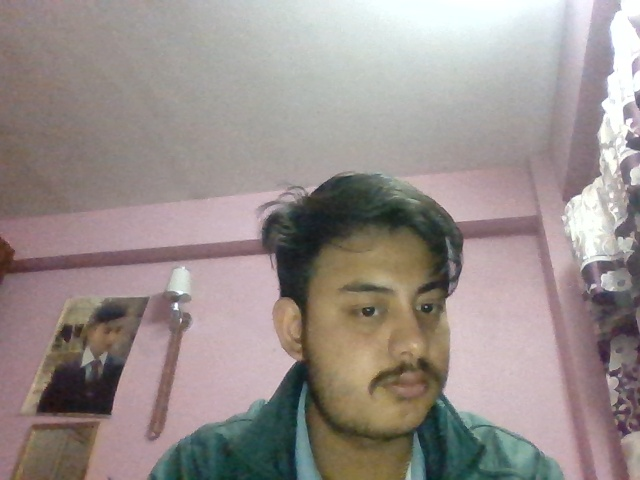no mask: (283, 331, 481, 455)
